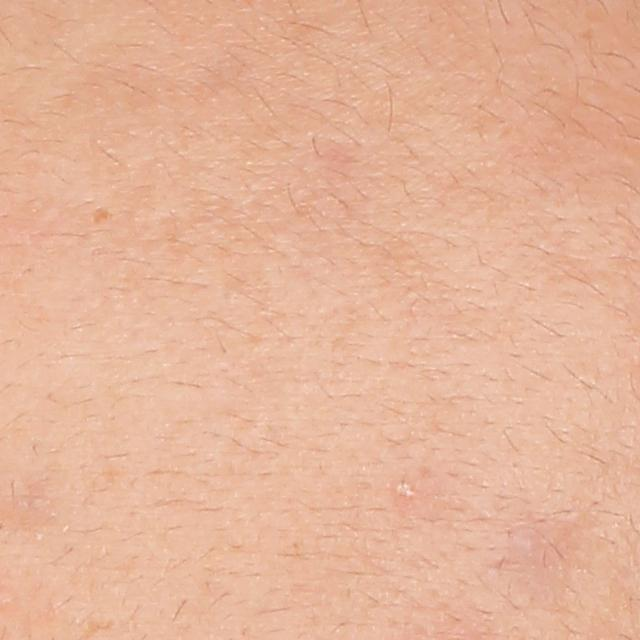atrophic_scar: (90, 207, 112, 224)
